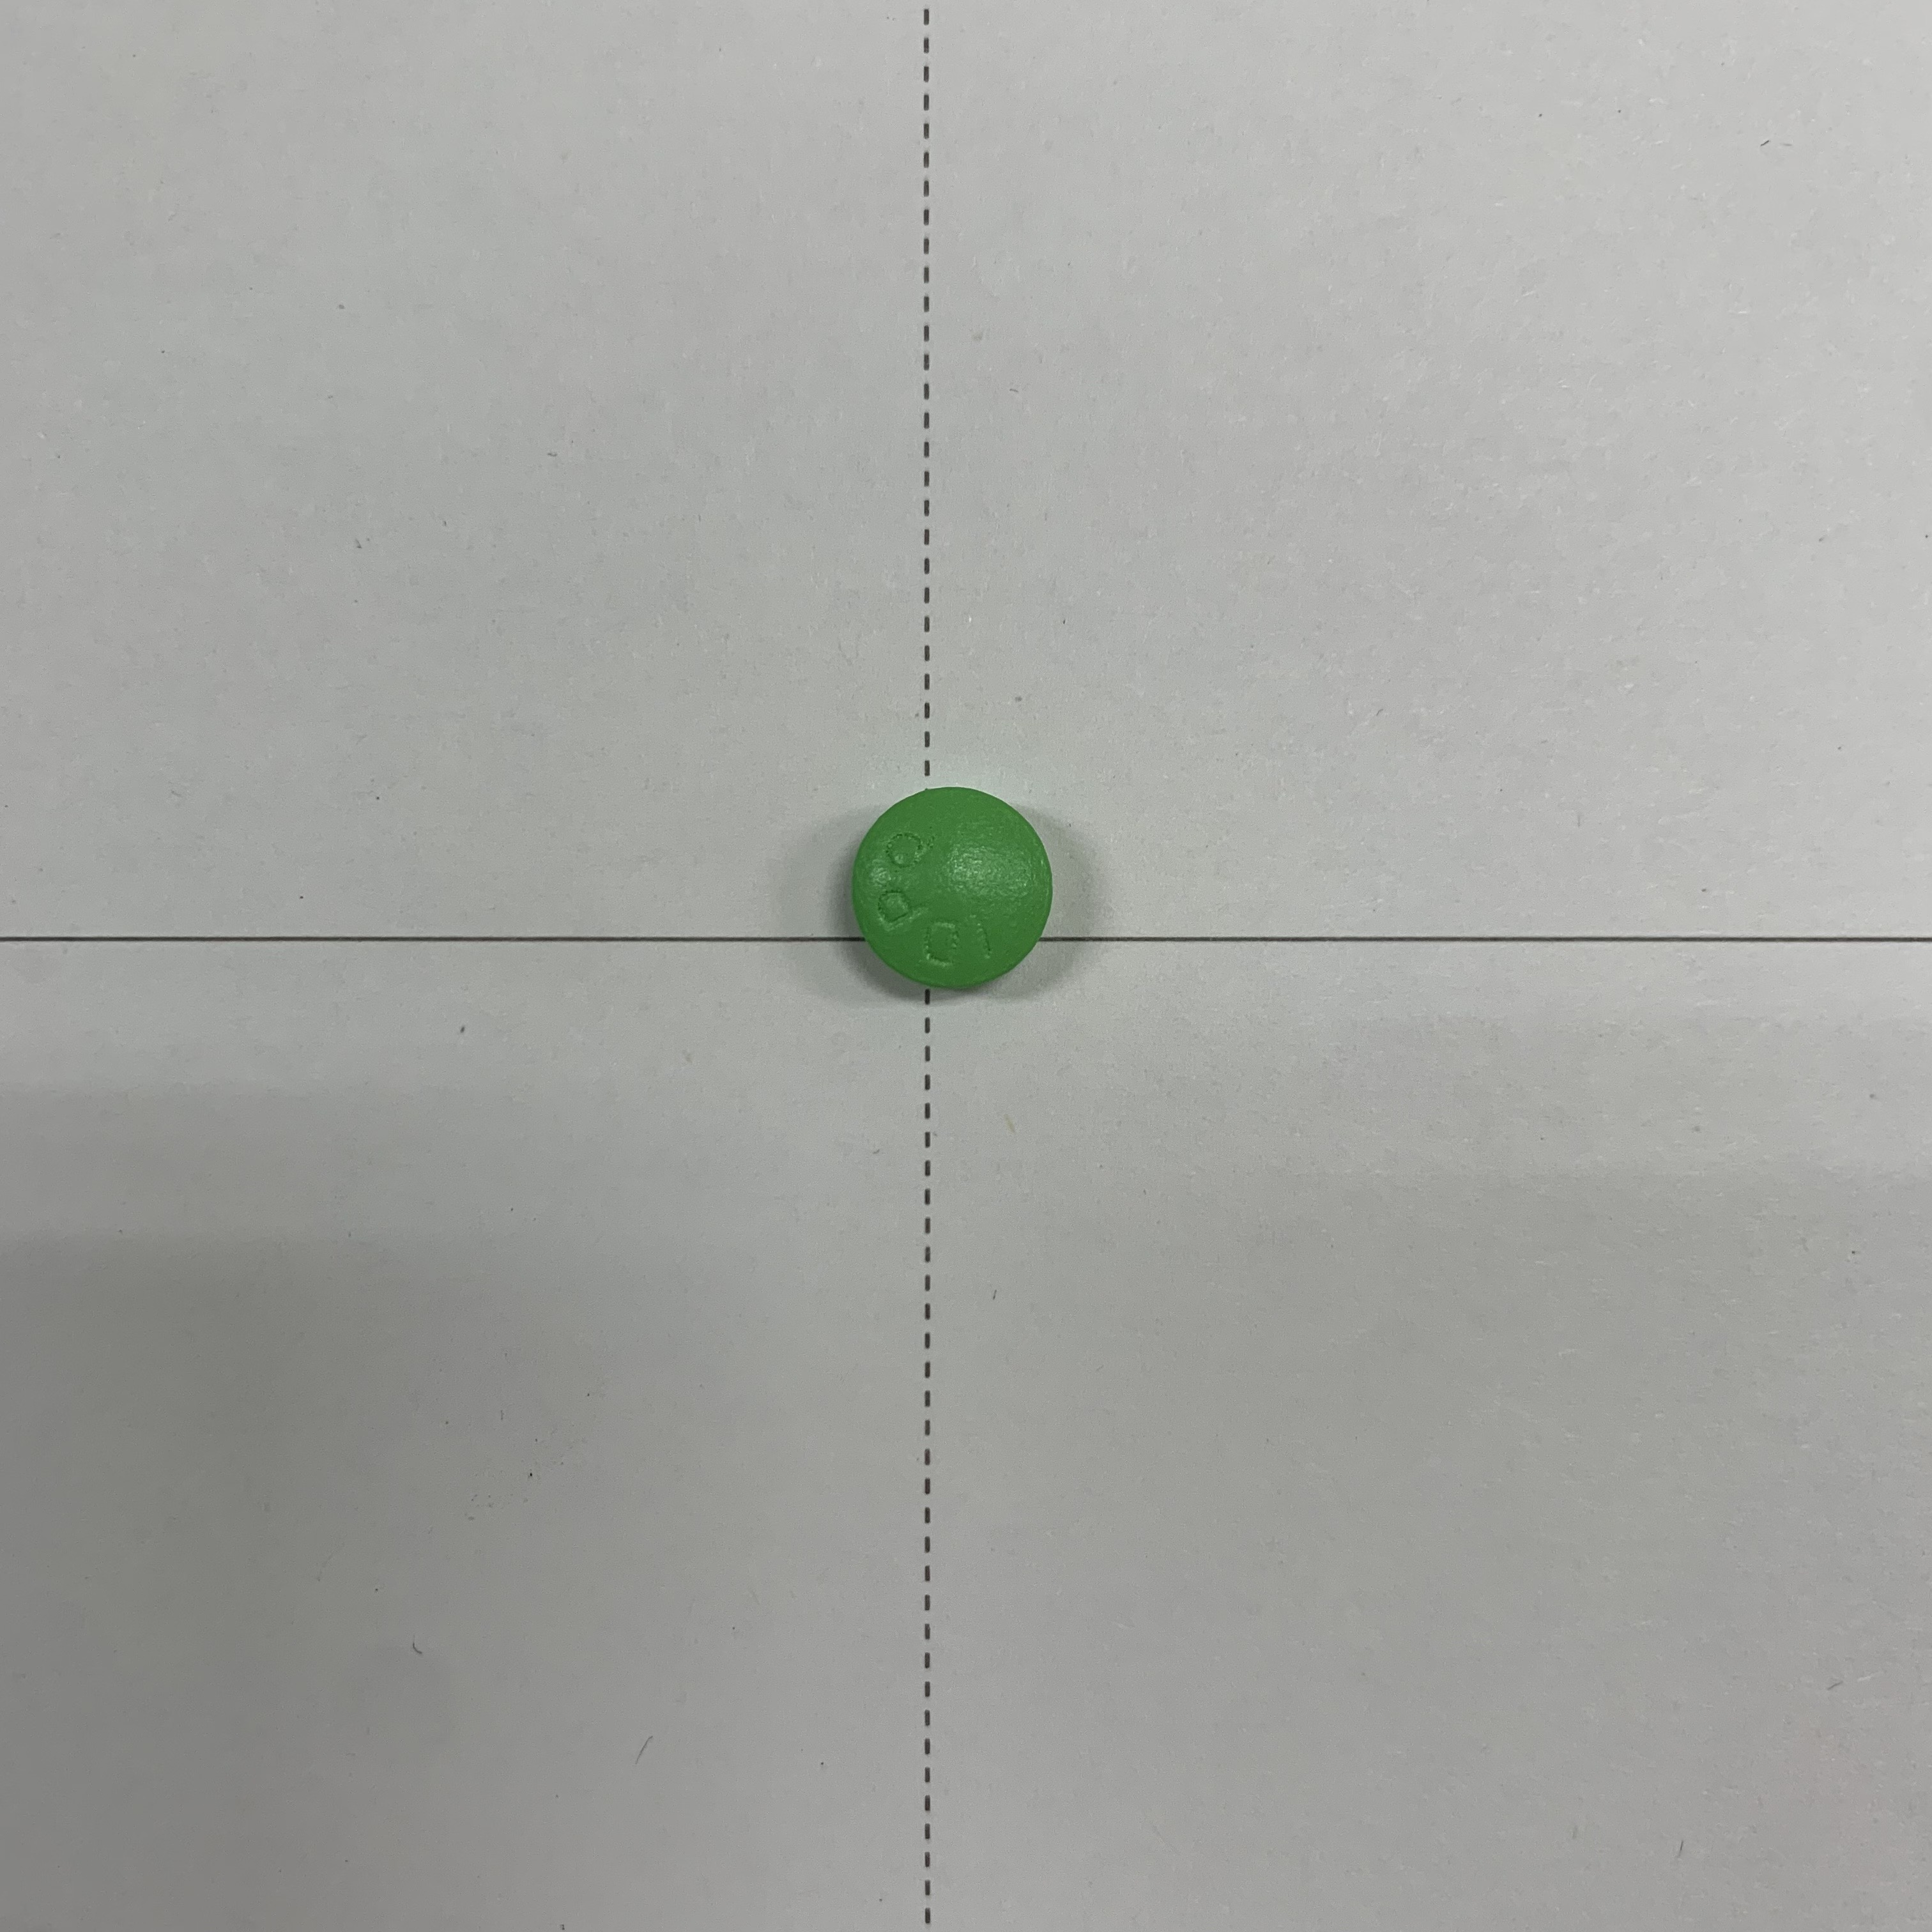cir_drug: (807, 770, 1088, 1024)
